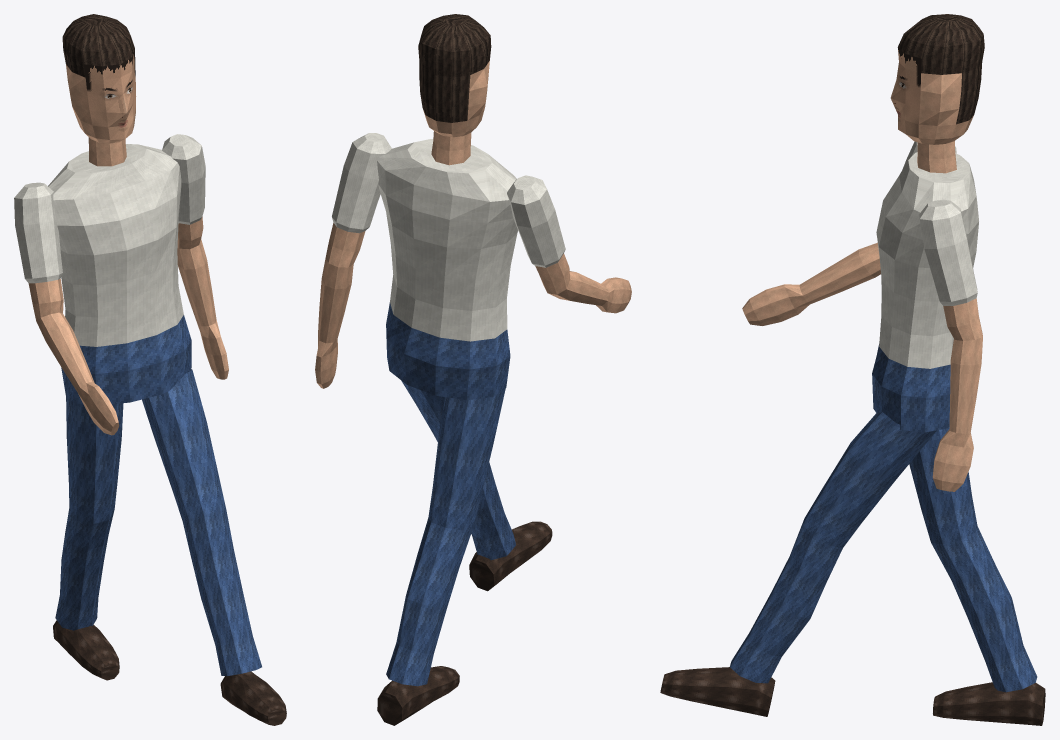
The model's file is walk_04.obj.
The picture shows the model from 3 angles, left to right: view 1: azimuth 30°, elevation 25°; view 2: azimuth 150°, elevation 25°; view 3: azimuth 270°, elevation 25°; orthographic projection. The views are drawn at different scales.
Size of the model in its own units: 0.6243 by 1.82 by 0.9115.
25 materials, 25 textured.
